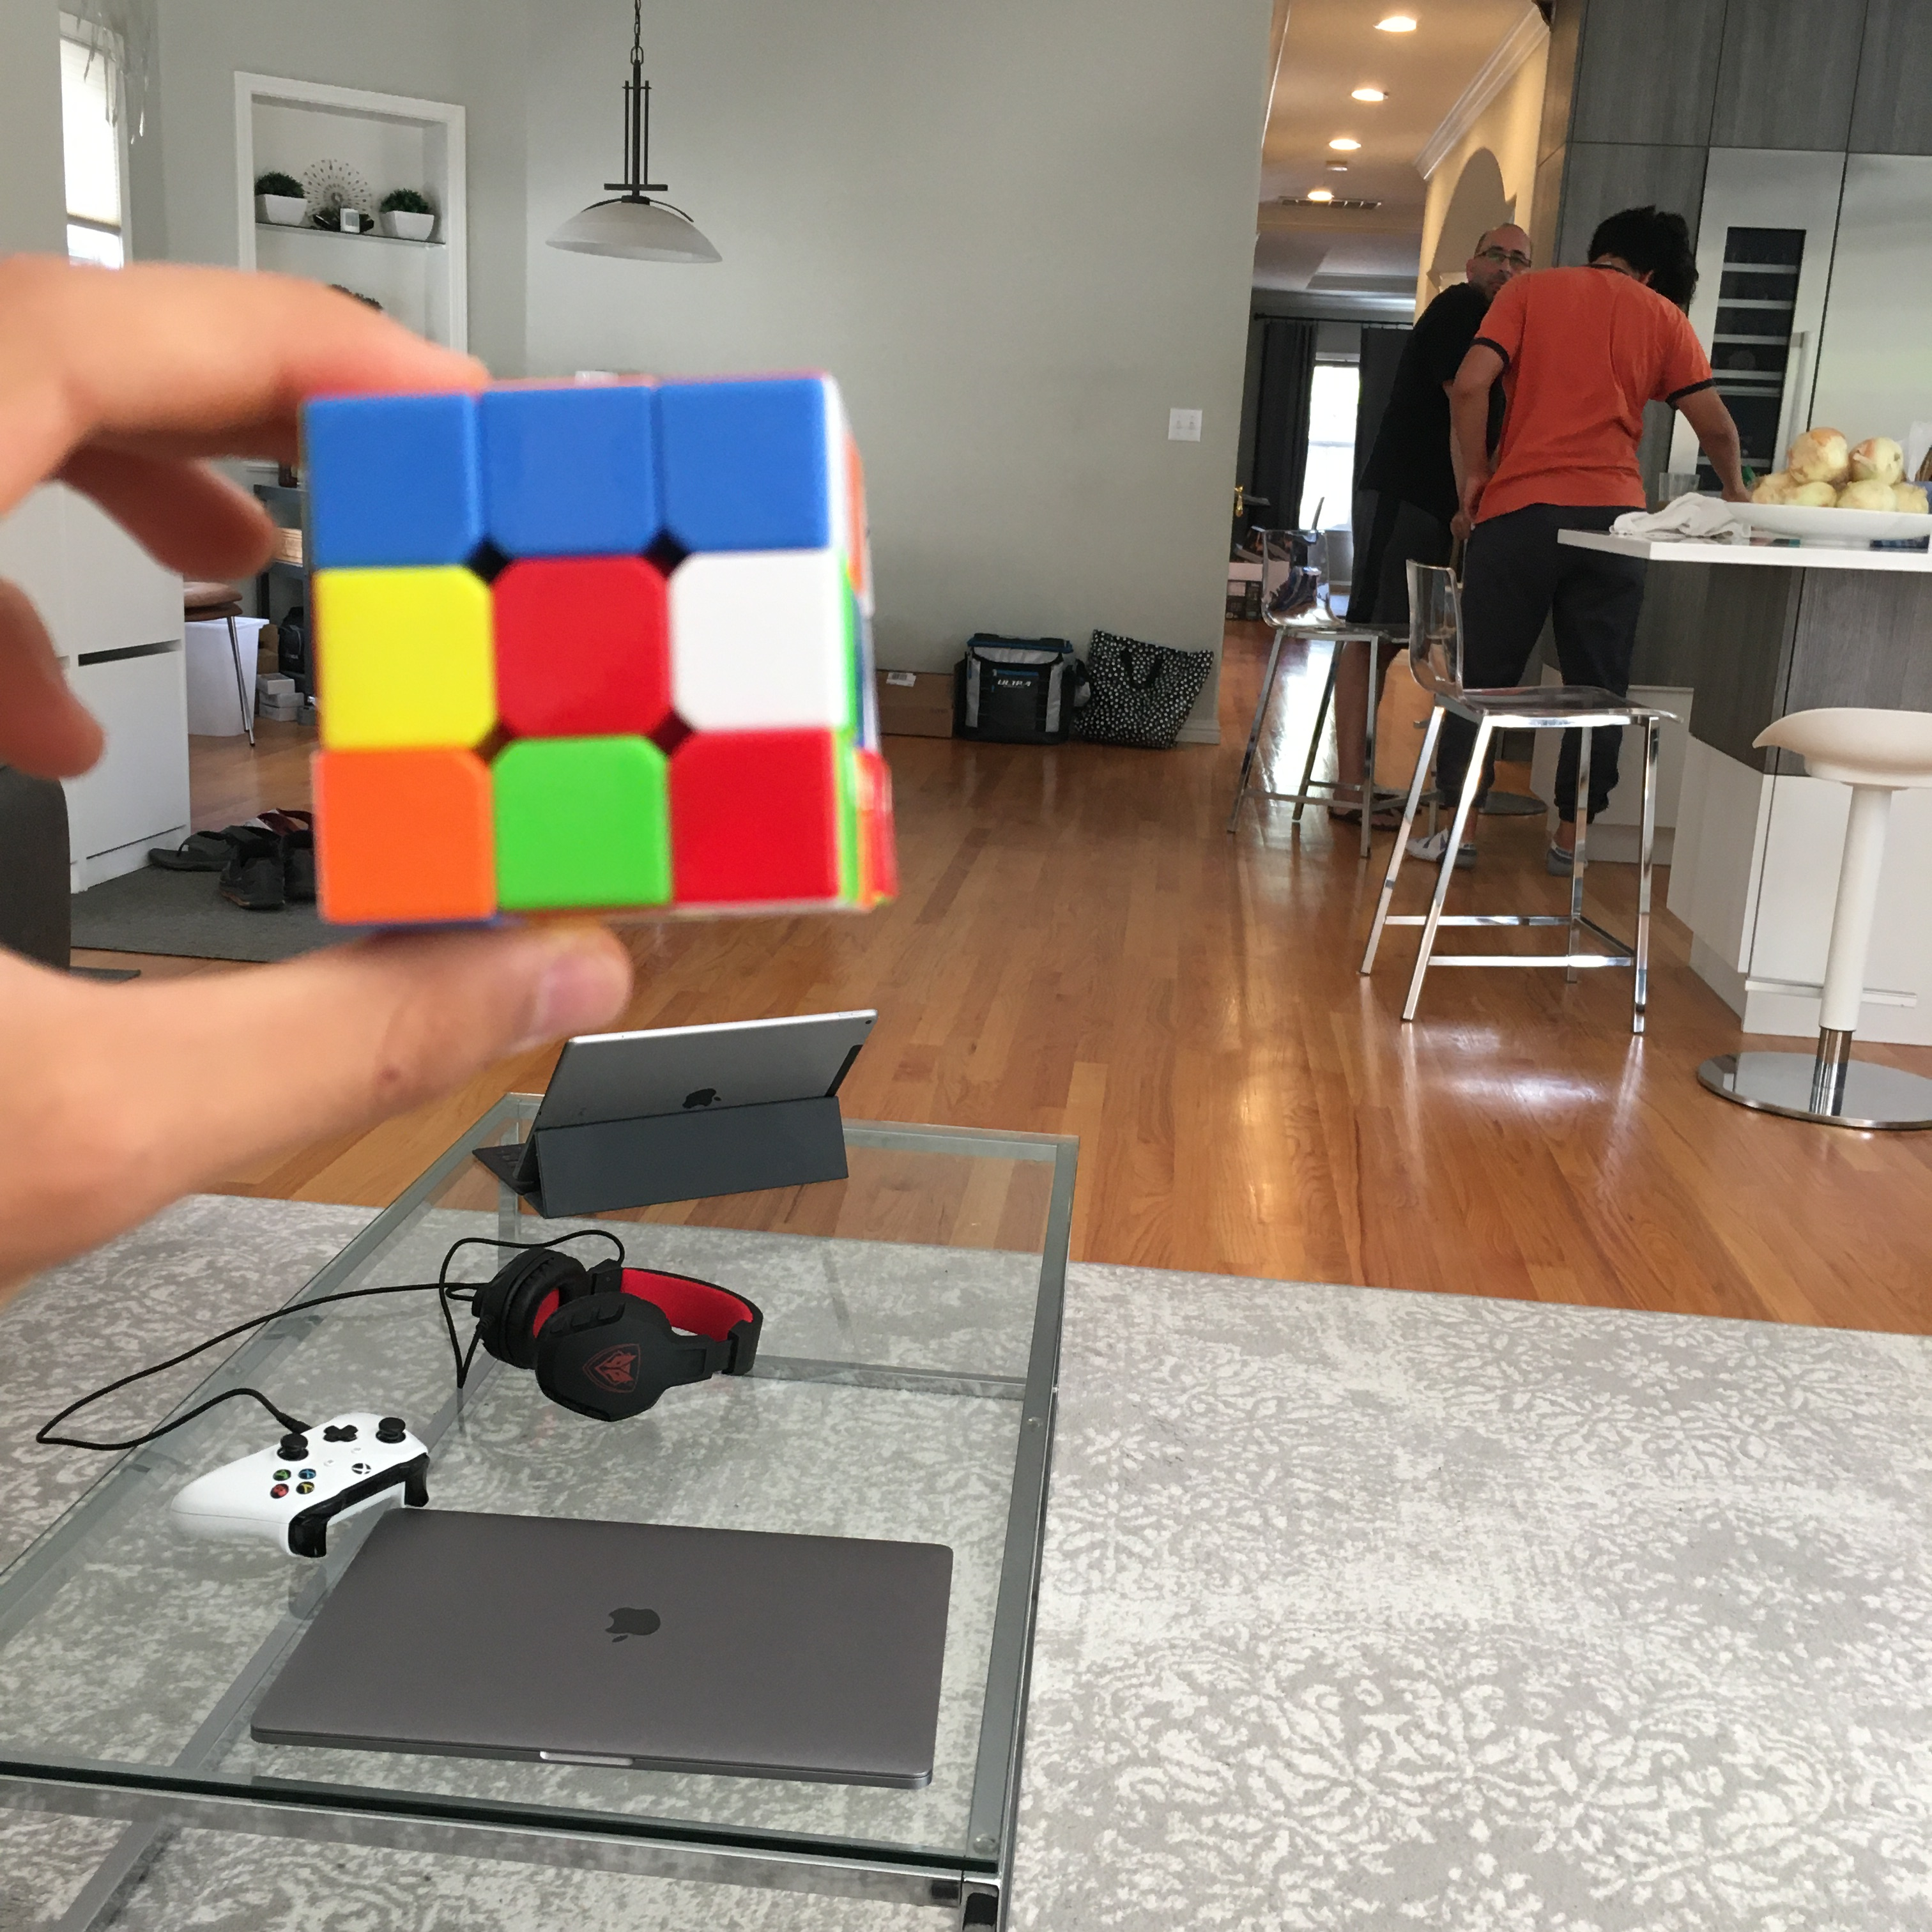face: (295, 387, 845, 909)
